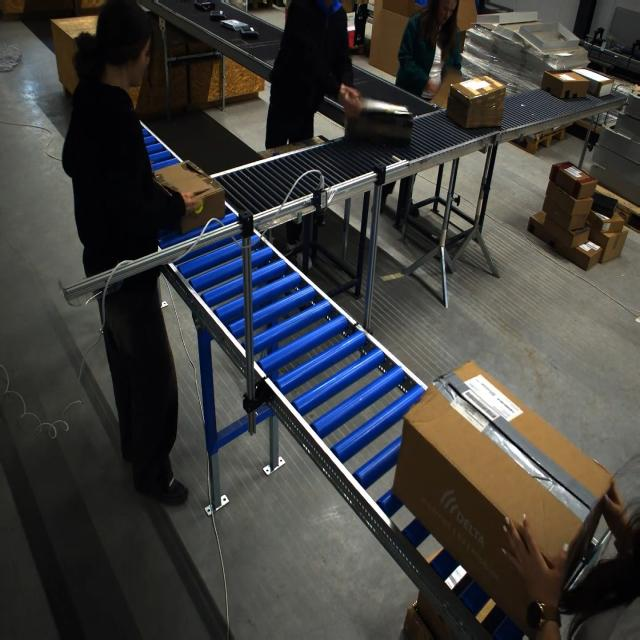box: (394, 375, 613, 635), (152, 160, 224, 233), (446, 76, 505, 131), (518, 20, 581, 55)
product: (220, 19, 248, 32), (194, 1, 215, 12), (240, 27, 259, 39), (209, 11, 226, 21)
